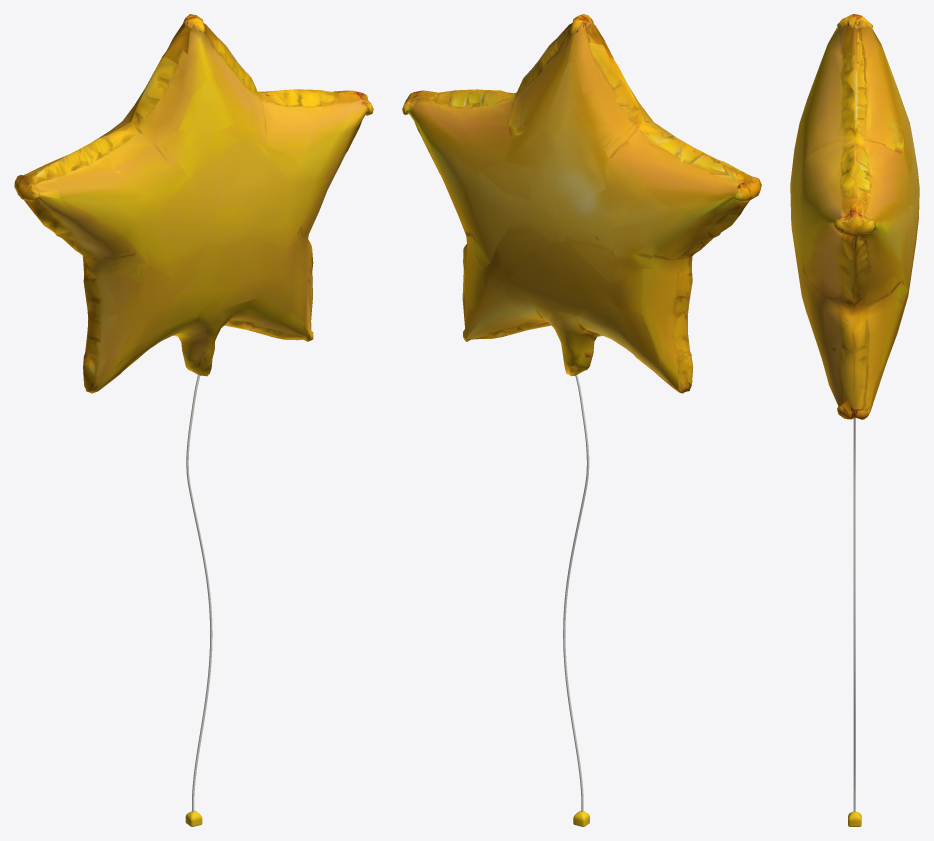
The model's file is WorldItem_Balloon_Star.fbx.
3 renders of one model, left to right at view 1: azimuth 30°, elevation 25°; view 2: azimuth 150°, elevation 25°; view 3: azimuth 270°, elevation 25°, orthographic.
Visible parts, largest first — view 1: Star Balloon; view 2: Star Balloon; view 3: Star Balloon.
Boxes of the visible parts, x1,y1,x2,y2 form: Star Balloon: (14,14,373,826); Star Balloon: (402,14,761,826); Star Balloon: (790,14,919,826).
Bounding box in the file's own units: 0.4504 × 0.9979 × 0.1448.
